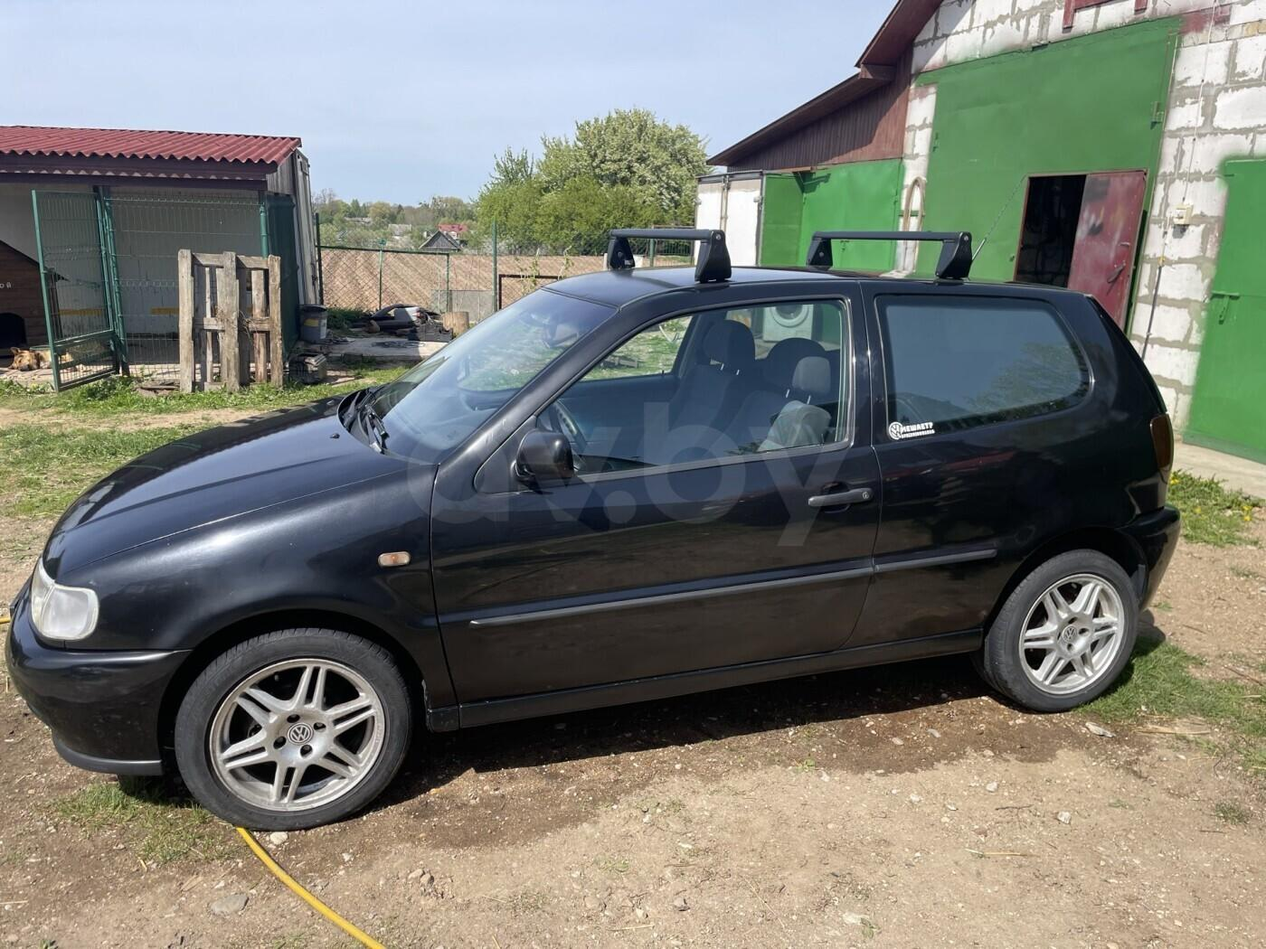Polo_1994-2002: (22, 269, 1179, 848)
